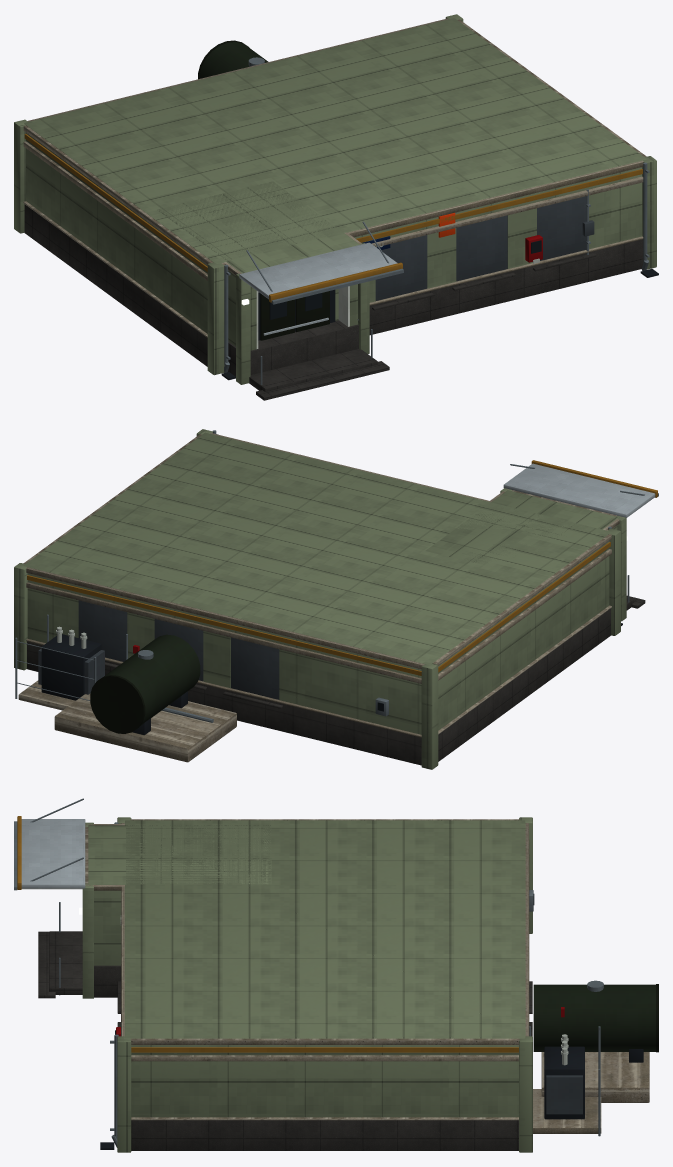
File: fac_infra_main.glb
The picture shows the model from 3 angles, top to bottom: view 1: azimuth 30°, elevation 25°; view 2: azimuth 150°, elevation 25°; view 3: azimuth 270°, elevation 25°; orthographic projection. The views are drawn at different scales.
Visible parts, largest first — view 1: FAC_INFRA_MAIN; view 2: FAC_INFRA_MAIN; view 3: FAC_INFRA_MAIN.
Part boxes in pixels (x1=…): FAC_INFRA_MAIN: x1=14, y1=14, x2=658, y2=400; FAC_INFRA_MAIN: x1=14, y1=429, x2=658, y2=769; FAC_INFRA_MAIN: x1=14, y1=798, x2=658, y2=1152.
Size of the model in its own units: 13.76 by 3.98 by 16.7.
Materials: 17 (15 with a texture image).
